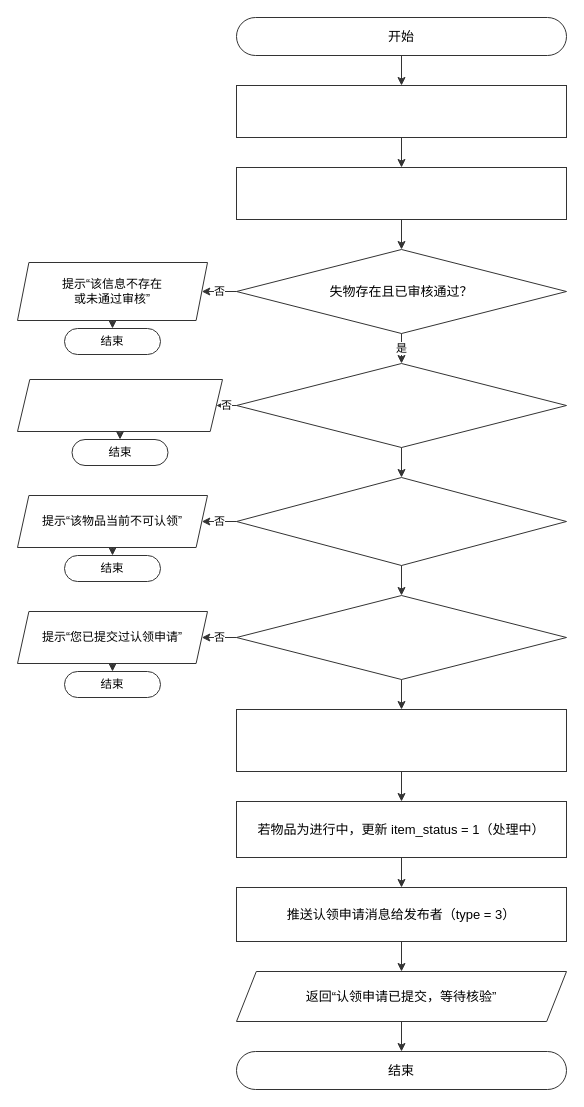
This 584x1107 diagram has some shape labels left out. The box of each missing label's shape, as (x1, y1, x2, y2) in pixels:
提示“不能认领自己发布的信息”: (16, 378, 222, 432)
插入 claim：status = 0（待核验）、 detail_desc 不超过 300 字: (236, 708, 566, 772)
本人未提交过认领？: (236, 594, 566, 680)
查询失物详情 selectById(itemId): (236, 166, 566, 220)
校验登录状态，读取 itemId 与认领说明: (236, 84, 566, 138)
物品状态为进行中或处理中？: (236, 476, 566, 566)
非本人发布？: (236, 362, 566, 448)
